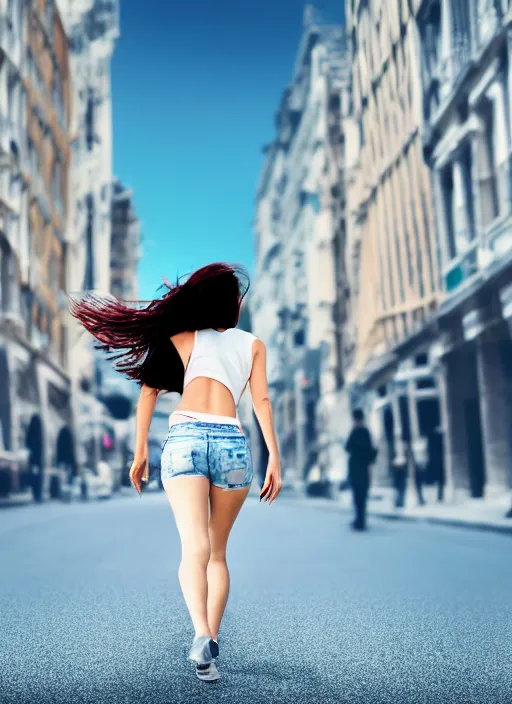person: (70, 255, 292, 689)
